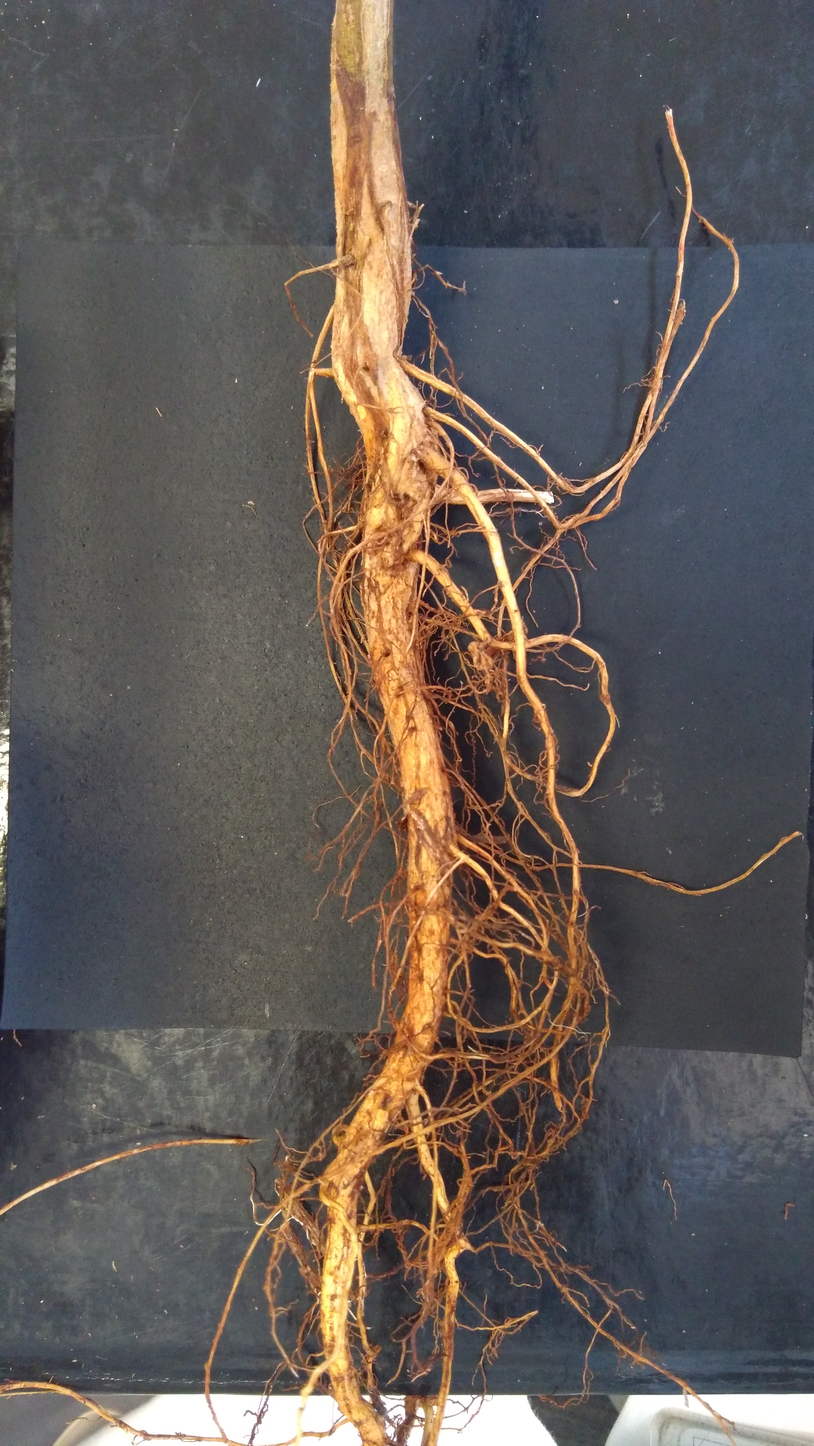nodule: (467, 640, 496, 670), (381, 542, 407, 568), (368, 1391, 390, 1421), (368, 1106, 390, 1133), (365, 506, 387, 529), (319, 1180, 338, 1203), (420, 1276, 435, 1304), (484, 672, 501, 688), (396, 813, 409, 833), (369, 1344, 382, 1355), (285, 1152, 294, 1165), (511, 1150, 518, 1160), (435, 615, 443, 623), (538, 521, 542, 526)
